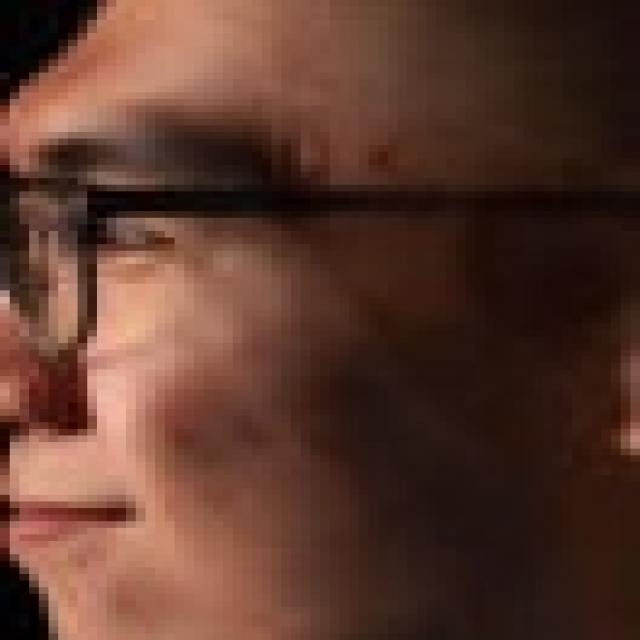Anxiety: (0, 0, 630, 633)
